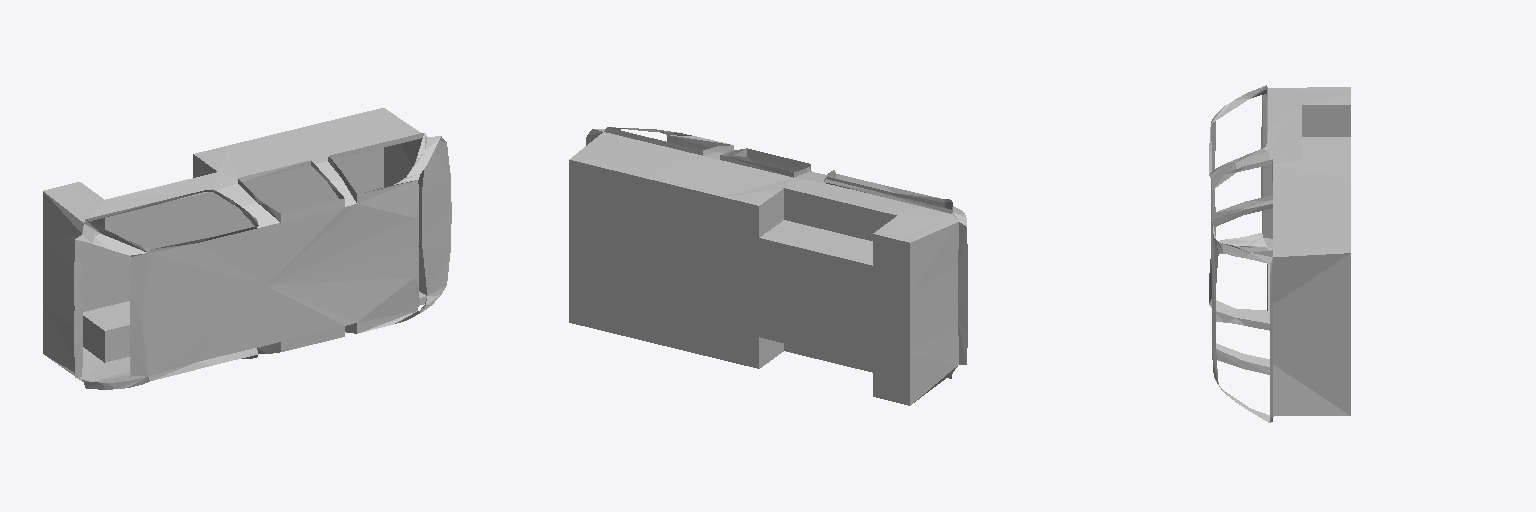
Rendered from interior_trim.obj.
3 renders of one model, left to right at view 1: azimuth 30°, elevation 25°; view 2: azimuth 150°, elevation 25°; view 3: azimuth 270°, elevation 25°, orthographic.
Visible parts, largest first — view 1: default; view 2: default; view 3: default.
Part boxes in pixels (x1,y1,x2,y2): default: (43, 108, 451, 389); default: (569, 127, 967, 405); default: (1209, 85, 1350, 422).
Size of the model in its own units: 4.07 by 1.75 by 1.31.